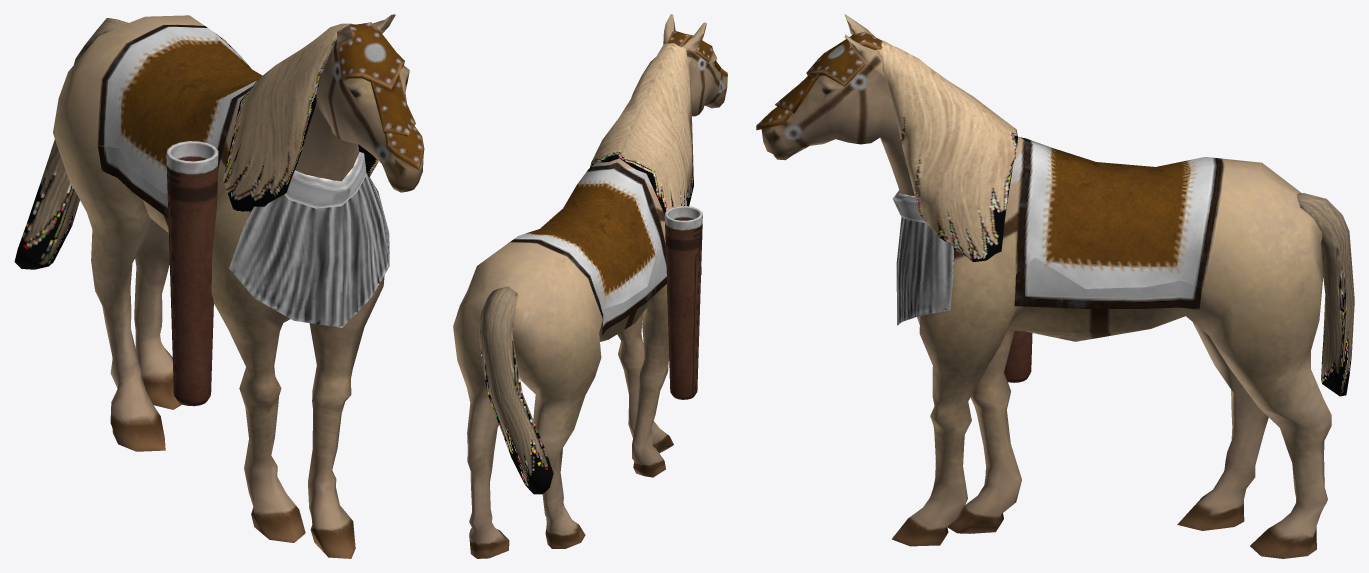
Rendered from body-mediumarchers.glb.
3 renders of one model, left to right at view 1: azimuth 30°, elevation 25°; view 2: azimuth 150°, elevation 25°; view 3: azimuth 270°, elevation 25°, orthographic. The views are drawn at different scales.
Size of the model in its own units: 0.909 by 2.5 by 2.65.
Materials: 2 (2 with a texture image).
